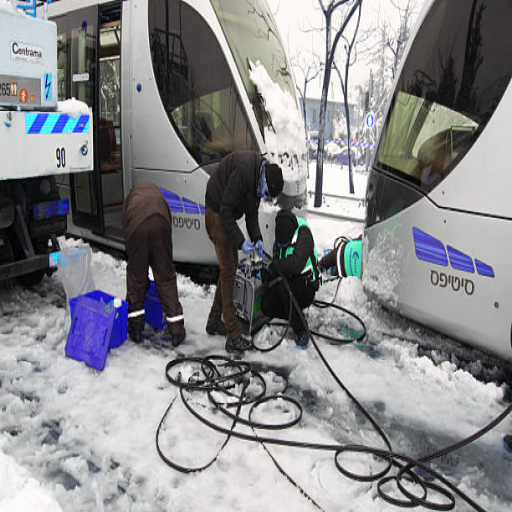portable_generator: (230, 258, 279, 333)
